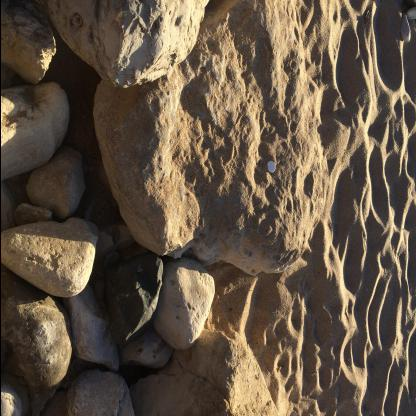plastik: (266, 161, 275, 173)
